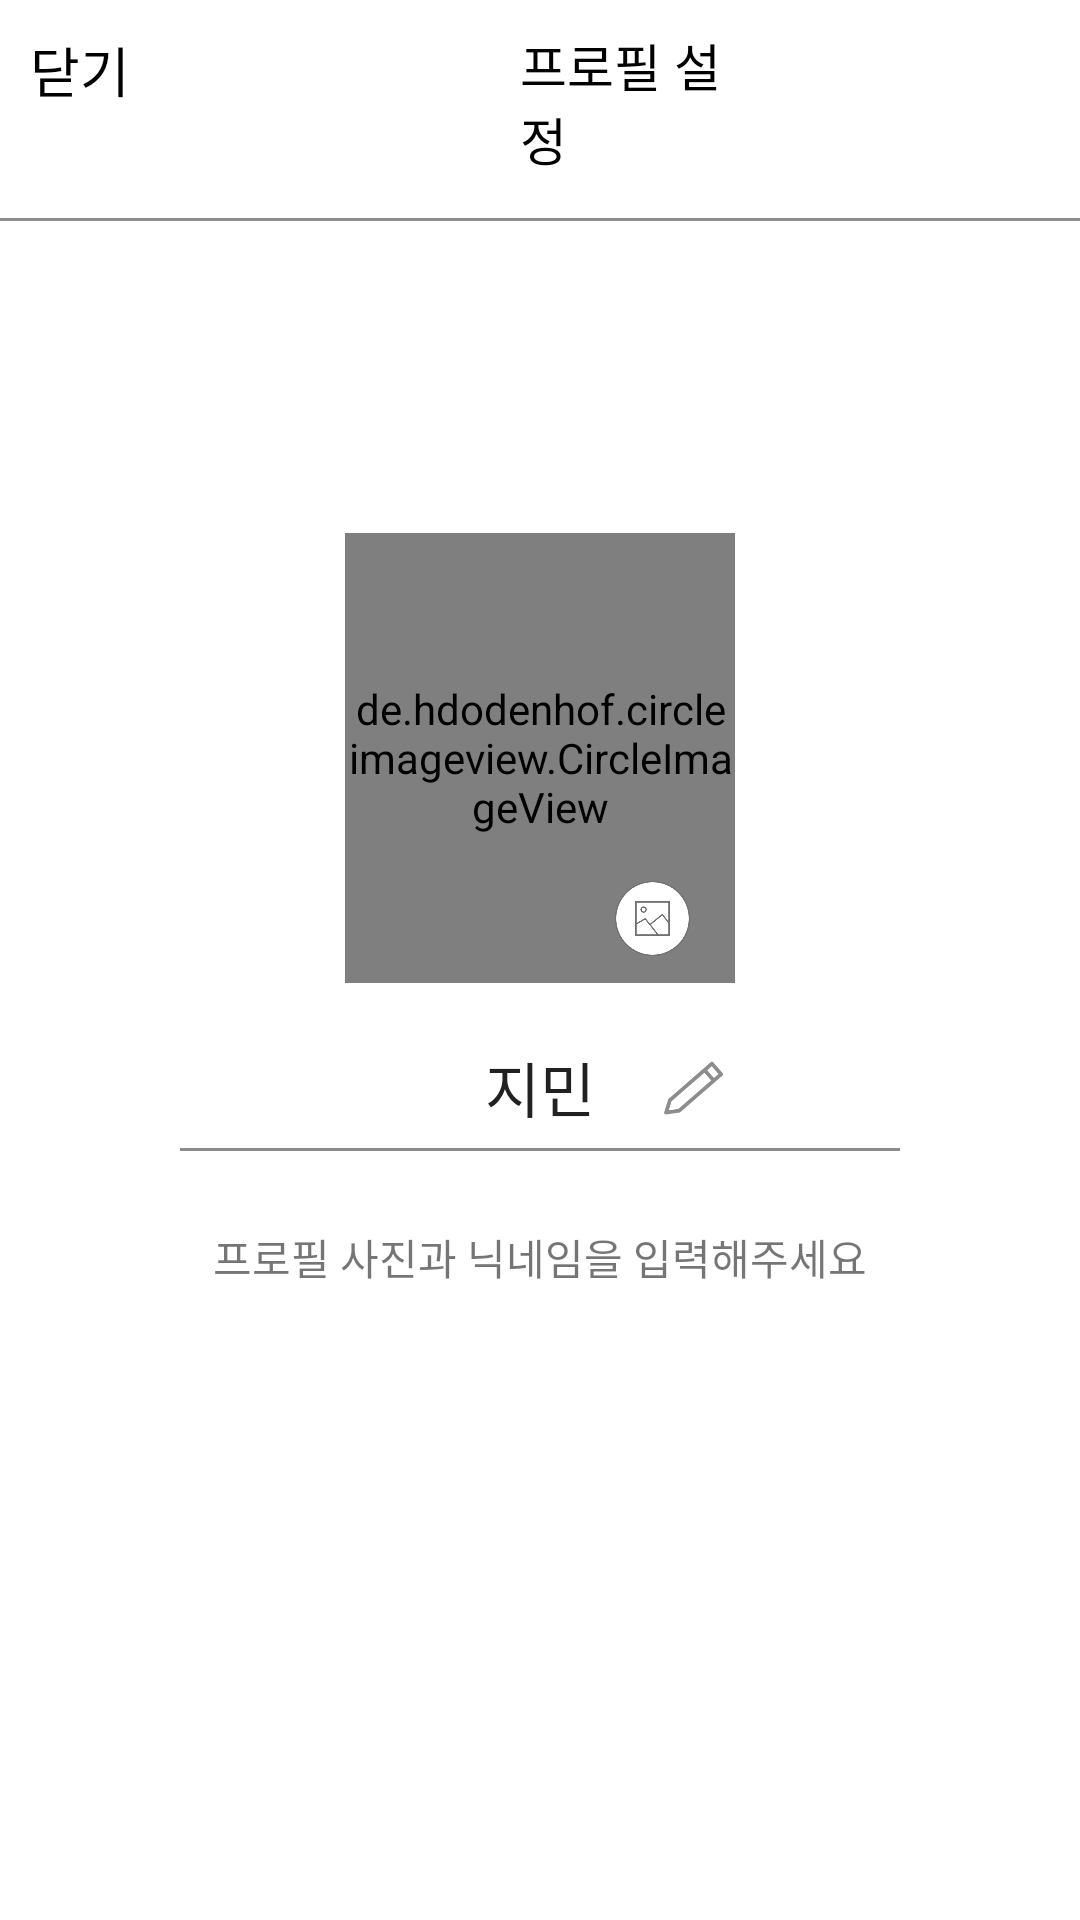

Where to tap for icons on this 1080w x 1920h app screen, as (x=x, y=y):
edit gallery: (x=652, y=918)
